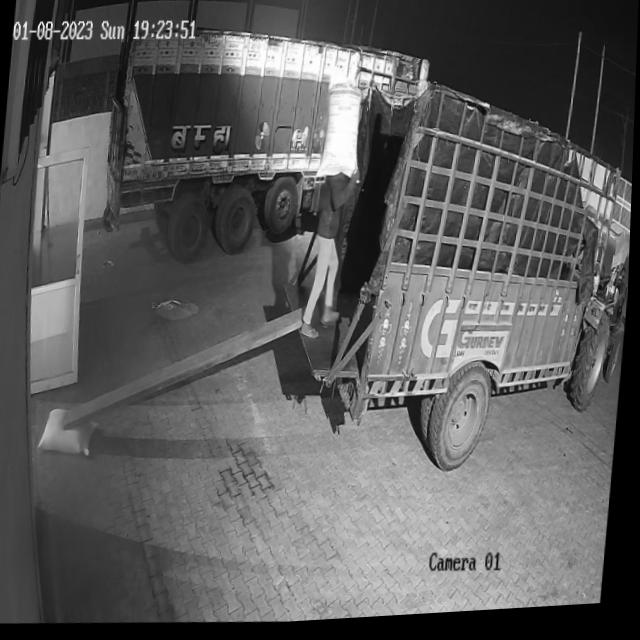sack: (321, 86, 365, 183), (41, 405, 102, 458)
